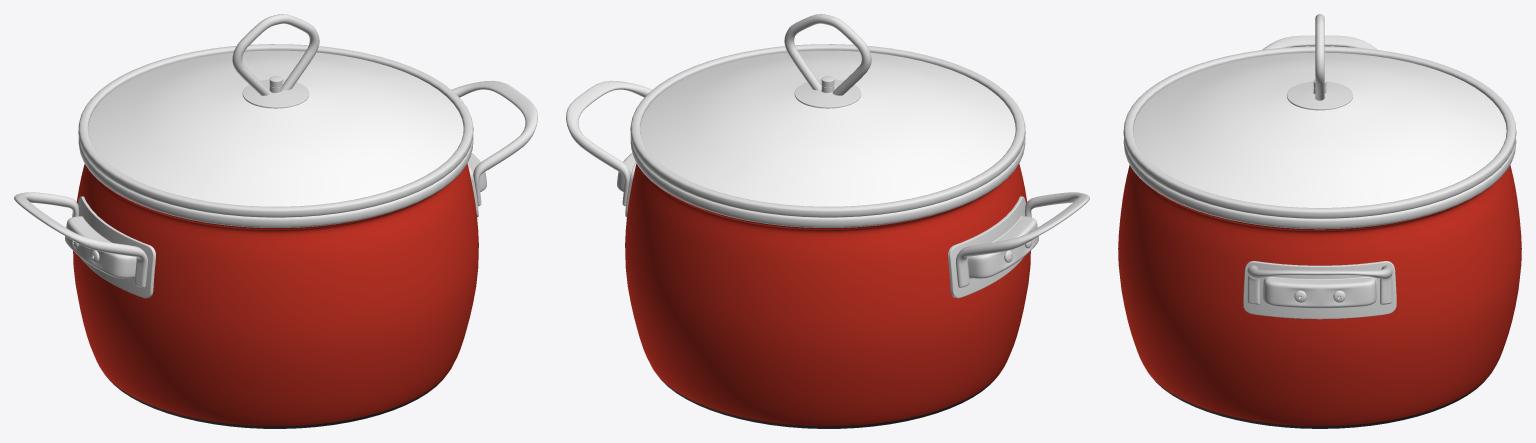
Rendered from pot.fbx.
3 views of the same model, side by side, from view 1: azimuth 30°, elevation 25°; view 2: azimuth 150°, elevation 25°; view 3: azimuth 270°, elevation 25° (orthographic).
Parts seen in each view (by area): view 1: Pot.002, lid.001; view 2: Pot.002, lid.001; view 3: Pot.002, lid.001.
Part boxes in pixels (x1,y1,x2,y2): Pot.002: (14, 80, 537, 428); lid.001: (78, 14, 473, 217); Pot.002: (566, 80, 1089, 428); lid.001: (630, 14, 1025, 217); Pot.002: (1118, 35, 1521, 428); lid.001: (1123, 14, 1516, 218).
Bounding box in the file's own units: 0.3613 × 0.2392 × 0.2594.
